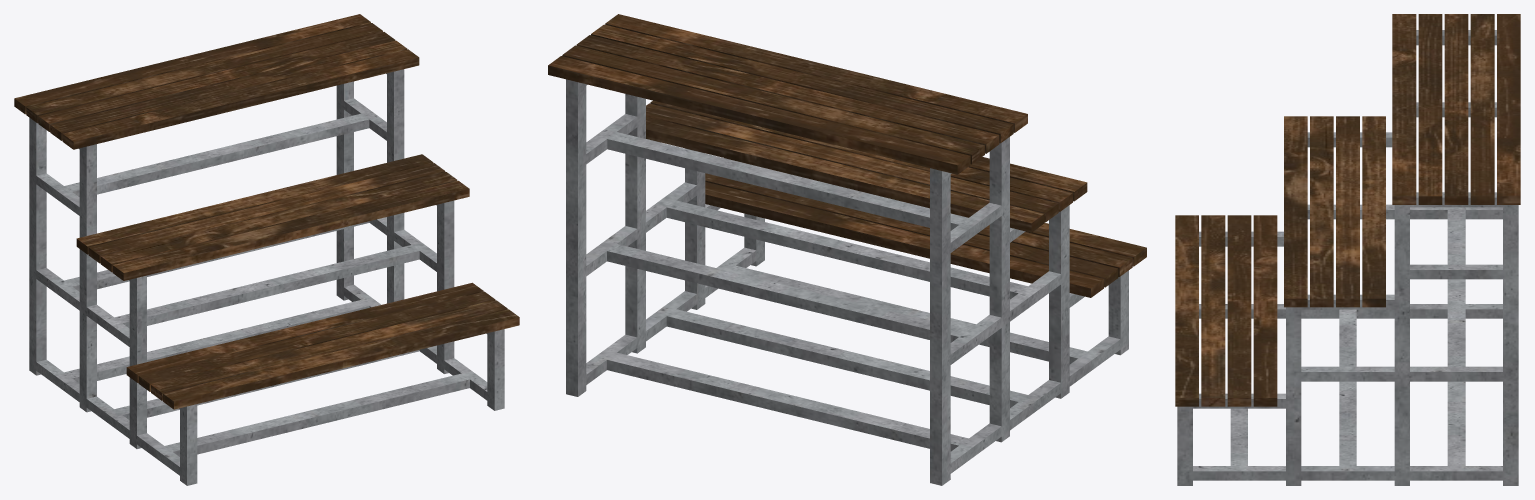
Rendered from tribune-3.glb.
3 views of the same model, side by side, from view 1: azimuth 30°, elevation 25°; view 2: azimuth 150°, elevation 25°; view 3: azimuth 270°, elevation 25° (orthographic). The views are drawn at different scales.
Visible parts, largest first — view 1: Tribune 10 4in1 R; view 2: Tribune 10 4in1 R; view 3: Tribune 10 4in1 R.
Part boxes in pixels (x1,y1,x2,y2): Tribune 10 4in1 R: [14, 14, 519, 485]; Tribune 10 4in1 R: [548, 14, 1146, 485]; Tribune 10 4in1 R: [1175, 14, 1520, 485].
Size of the model in its own units: 1.8 by 1.37 by 1.44.
1 material, 1 textured.
